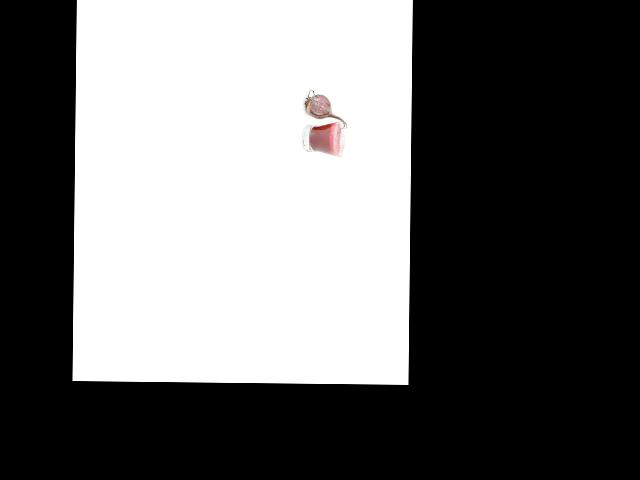beet: (303, 90, 347, 134)
